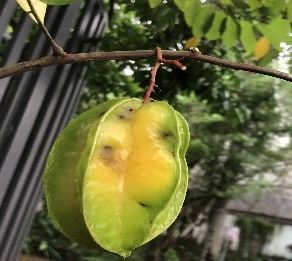Khe: (41, 97, 191, 260)
